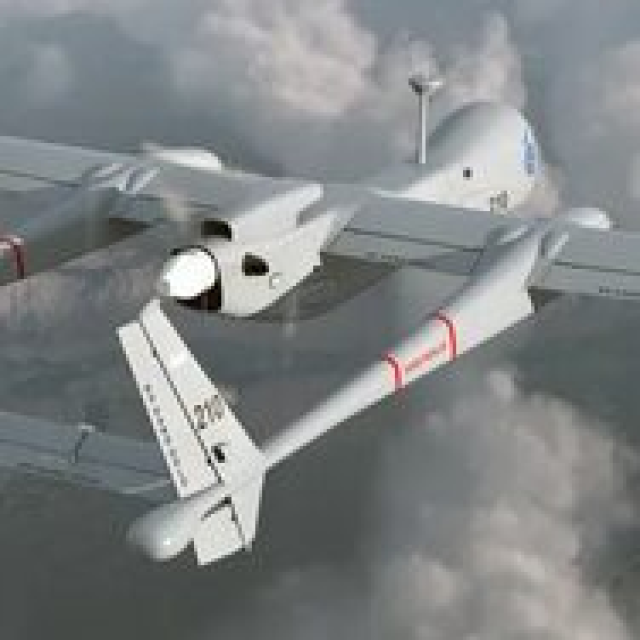military drone: (0, 73, 640, 568)
